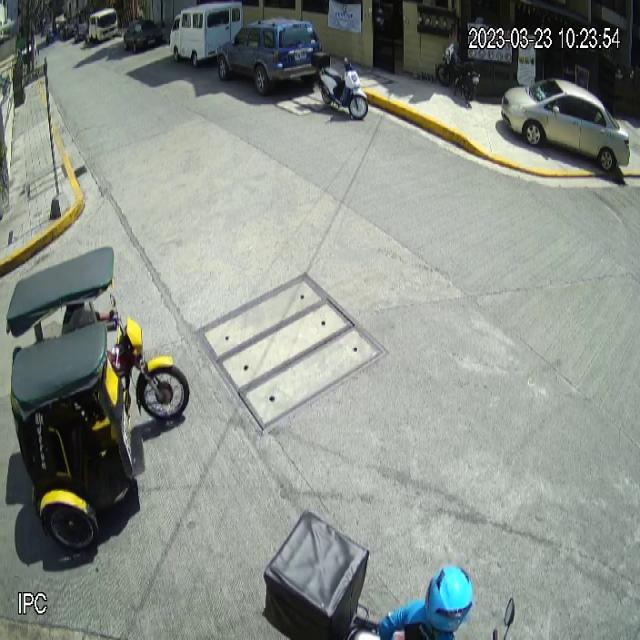Car: (500, 78, 630, 174), (218, 17, 324, 99)
Motorcycle: (312, 48, 369, 120)
Tricycle: (5, 244, 191, 552)
Van: (170, 1, 245, 67)
